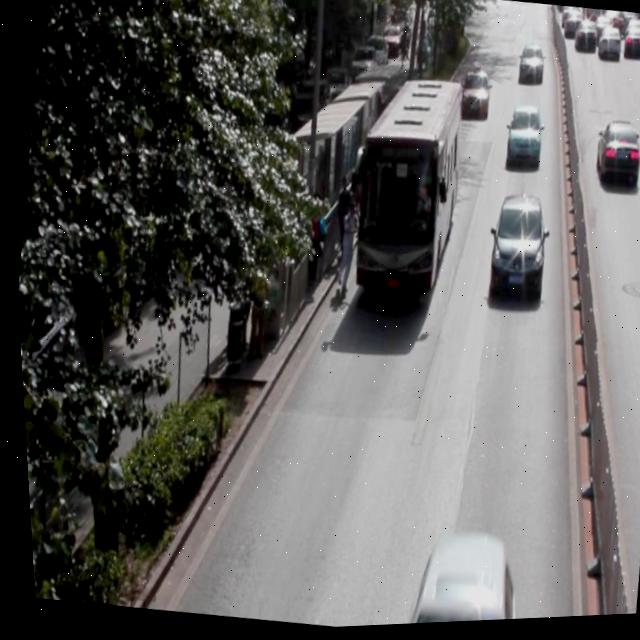car: (395, 531, 515, 627), (479, 195, 549, 299), (588, 123, 640, 193), (499, 104, 544, 170), (455, 69, 491, 119)
van: (337, 71, 470, 302)
